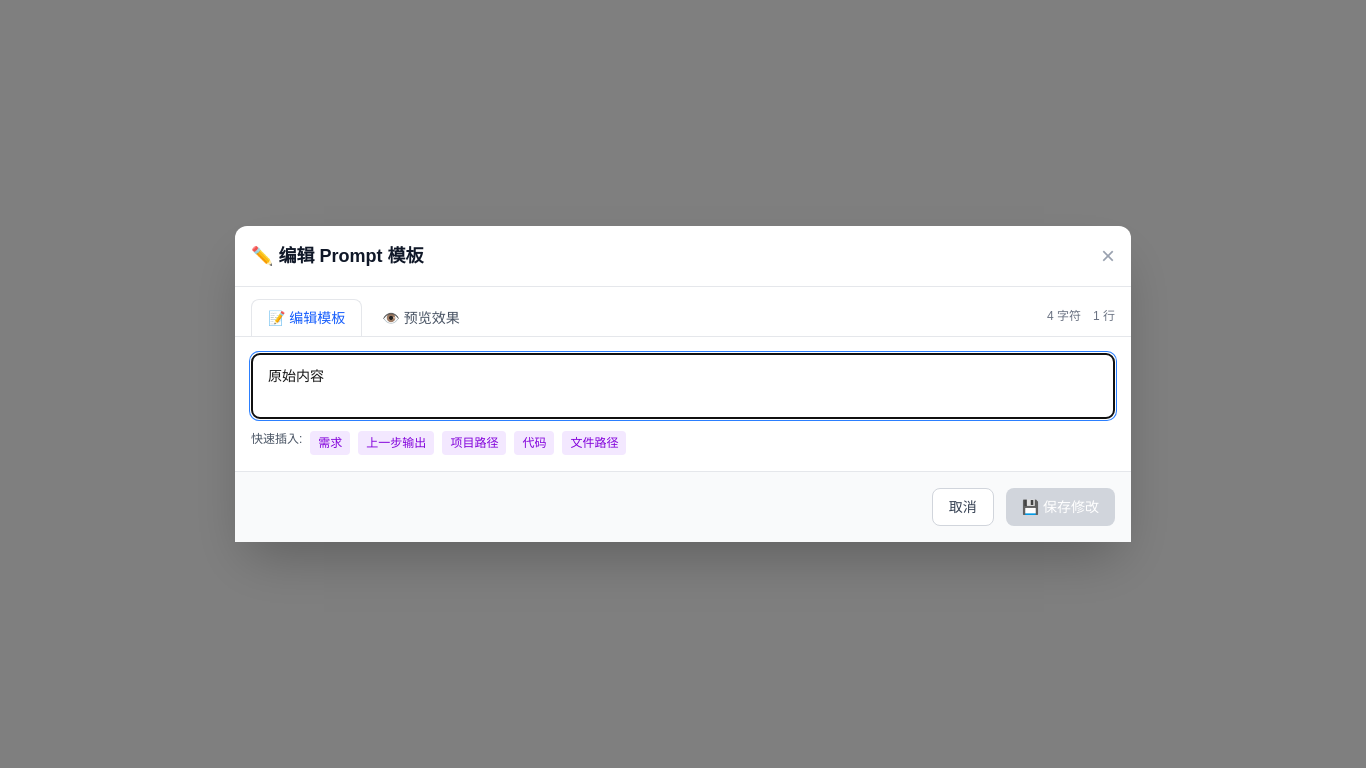
Test case: PromptEditorModal › 有修改时保存按钮应该启用
Replace the text in the text box with placeholder "输入 Prompt 内容，使用 {{variable}} 或 ${variable} 定义变量..." with "新内容": (683, 386) [251,353,1115,419]
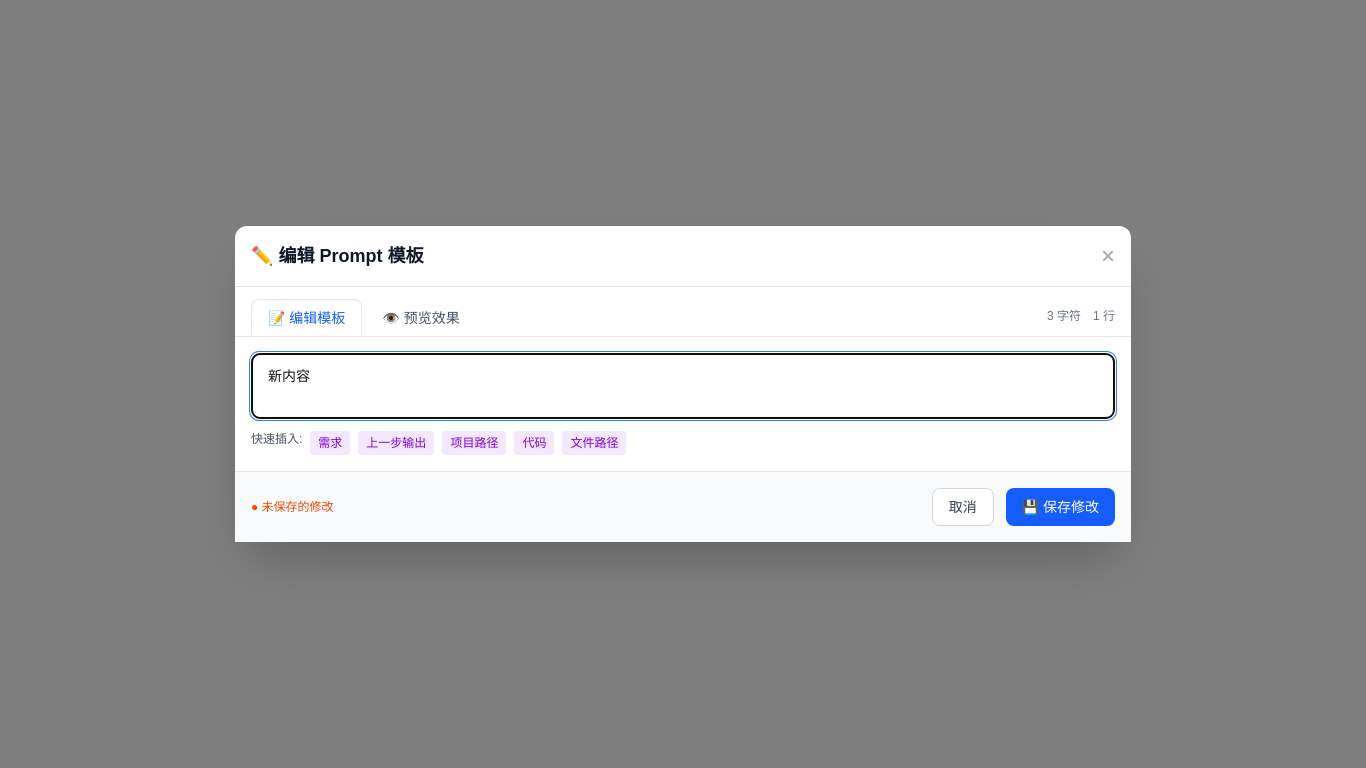
Expected: the button "💾 保存修改" is enabled, [1006,488,1115,526]
